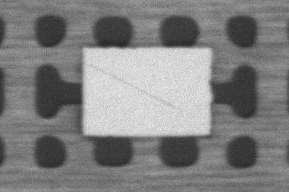DIE_CRACK: (134, 43, 274, 74)
